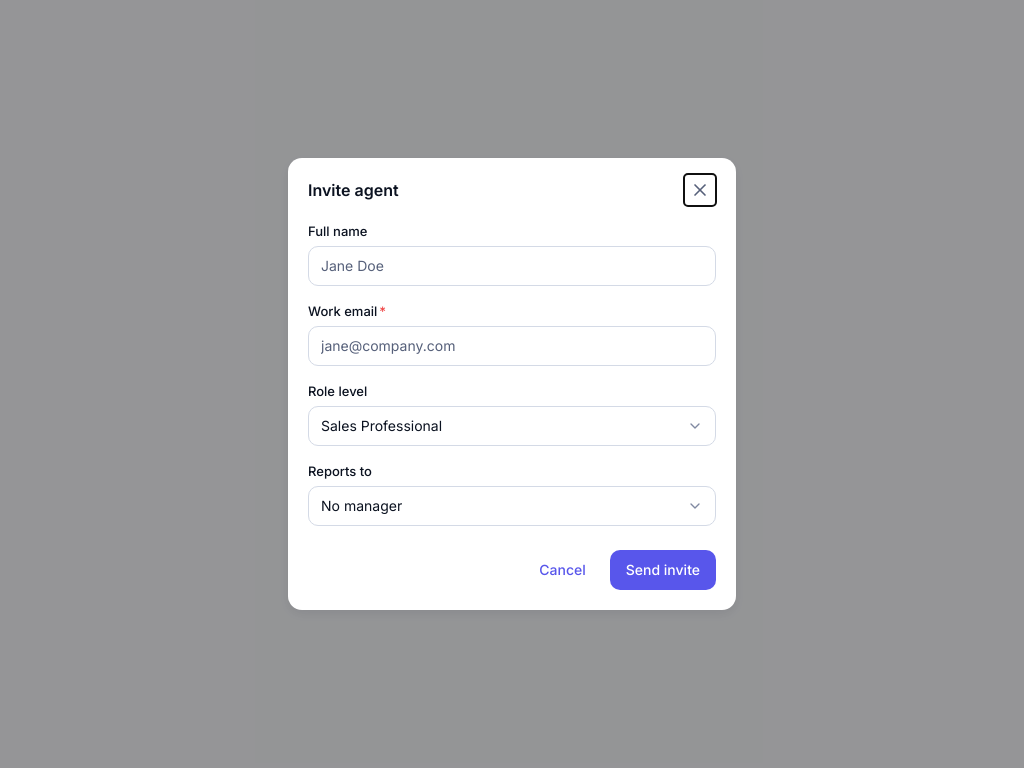
Test: InviteAgentModal › reports-to offers only manager-and-above active members plus No manager
Click the dropdown named "reports to" at x=362, y=506, box [308,486,716,526]
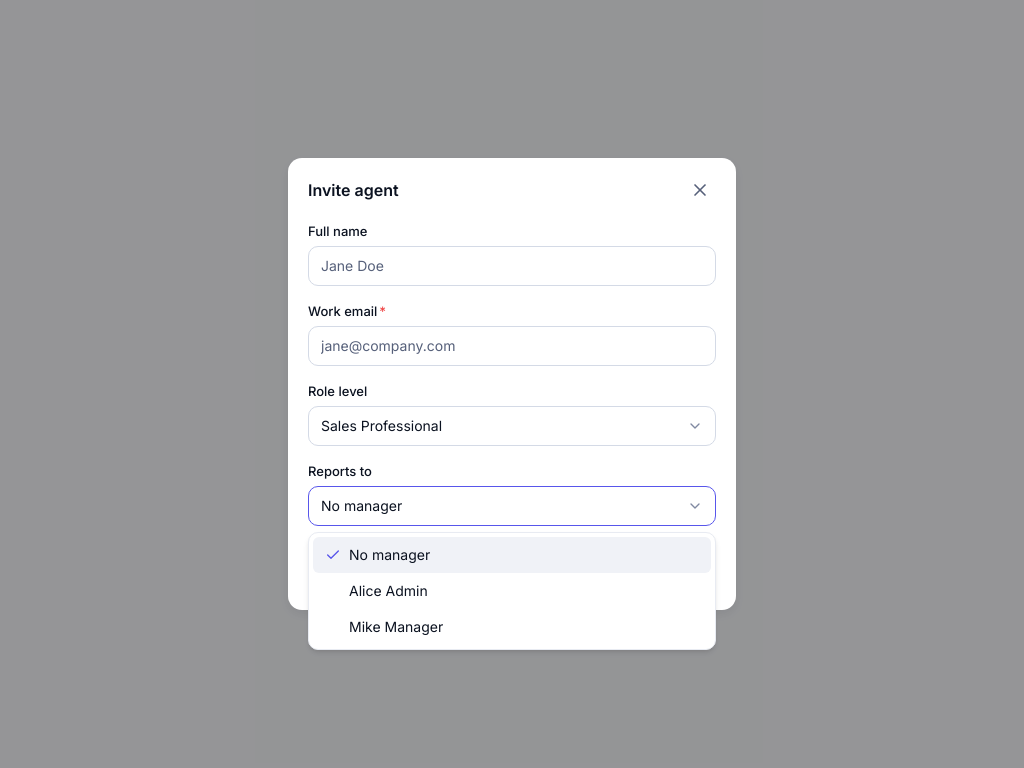
expect the option "No manager" is shown: met, box [313,537,711,573]
expect the option "Alice Admin" is shown: met, box [349,582,428,599]
expect the option "Mike Manager" is shown: met, box [349,618,443,635]
